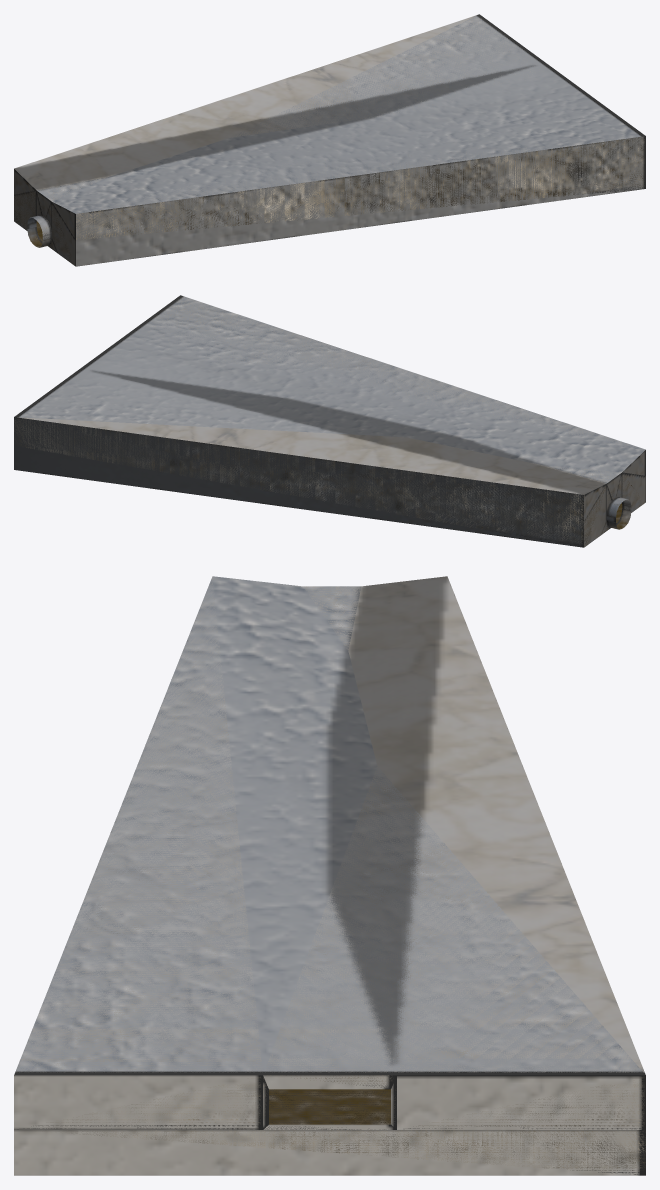
3 renders of one model, top to bottom at view 1: azimuth 30°, elevation 25°; view 2: azimuth 150°, elevation 25°; view 3: azimuth 270°, elevation 25°, orthographic. The views are drawn at different scales.
Parts seen in each view (by area): view 1: L1R2_outside, L1R2_ceiling, L1R2_walls; view 2: L1R2_outside, L1R2_walls, L1R2_ceiling; view 3: L1R2_outside, L1R2_ceiling, L1R2_walls, L1R2_floor.
Part boxes in pixels (x1,y1,x2,y2): L1R2_outside: (14,14,645,266); L1R2_ceiling: (14,14,640,213); L1R2_walls: (14,136,645,264); L1R2_outside: (14,295,645,547); L1R2_walls: (14,418,644,546); L1R2_ceiling: (17,296,638,494); L1R2_outside: (14,576,645,1175); L1R2_ceiling: (15,576,645,1075); L1R2_walls: (23,1075,645,1174); L1R2_floor: (269,1089,390,1124).
Bounding box in the file's own units: 8227 × 941 × 4500.
Materials: 4 (4 with a texture image).
